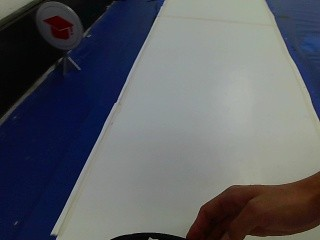school: (31, 3, 83, 51)
